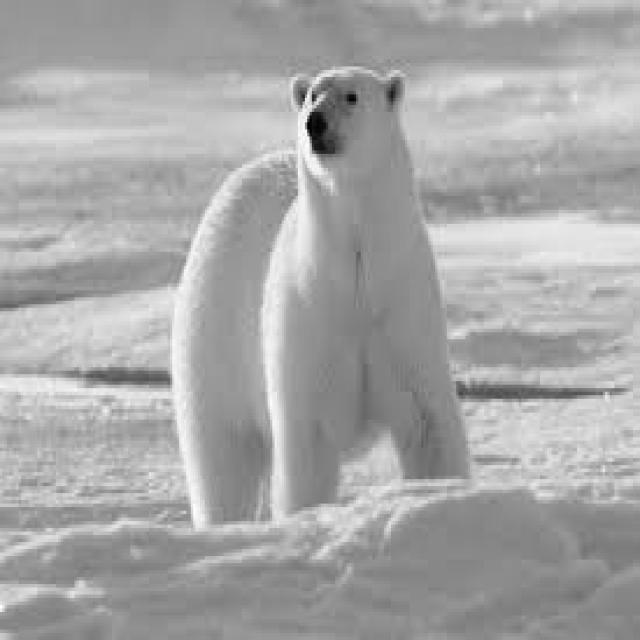Bear: (173, 80, 461, 534)
